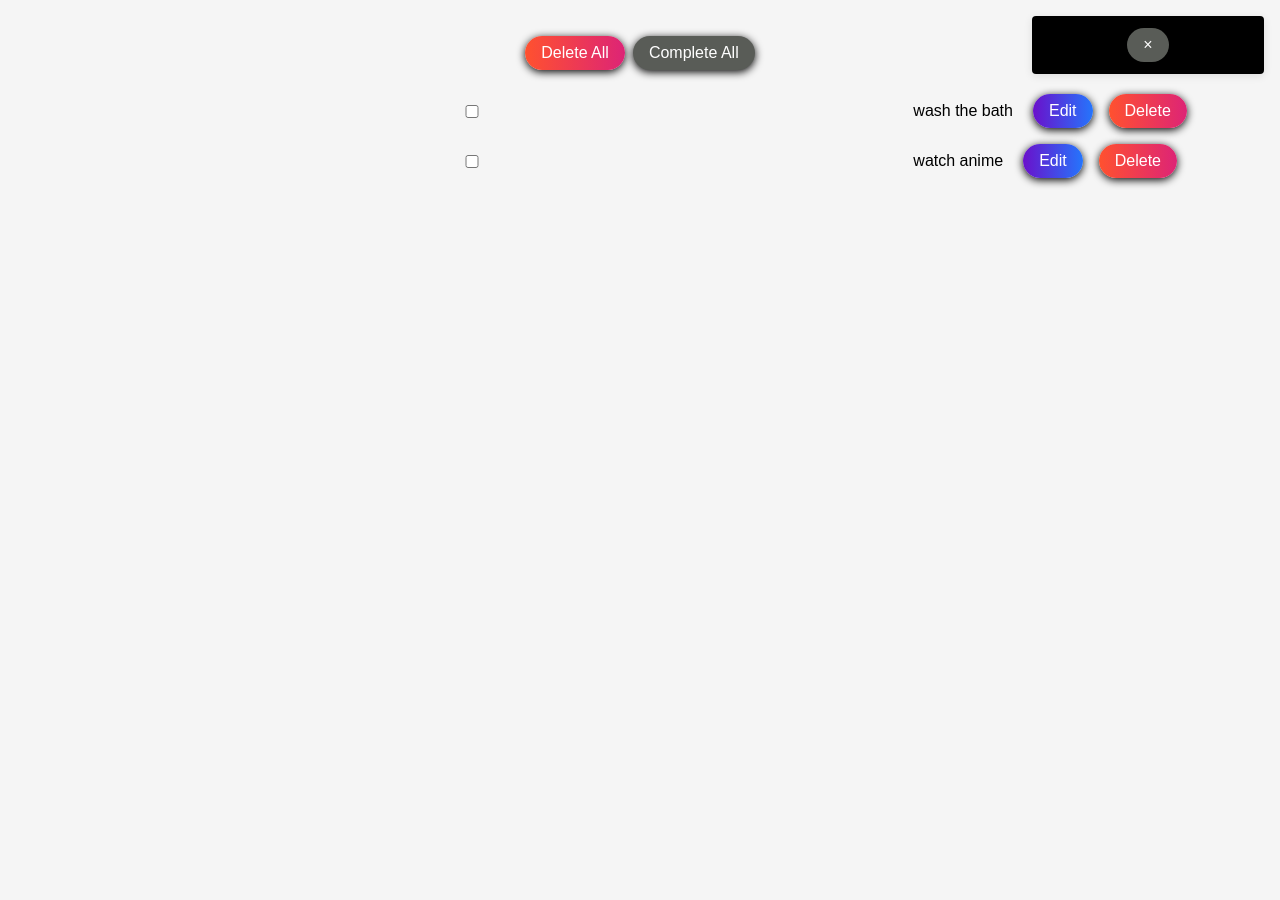
Scenario: Editing a todo- client side validation › user edits and updates a todo item in list
Click the button "Edit" next to "wash the bath".
click(1063, 111)  # box [1033, 94, 1093, 128]
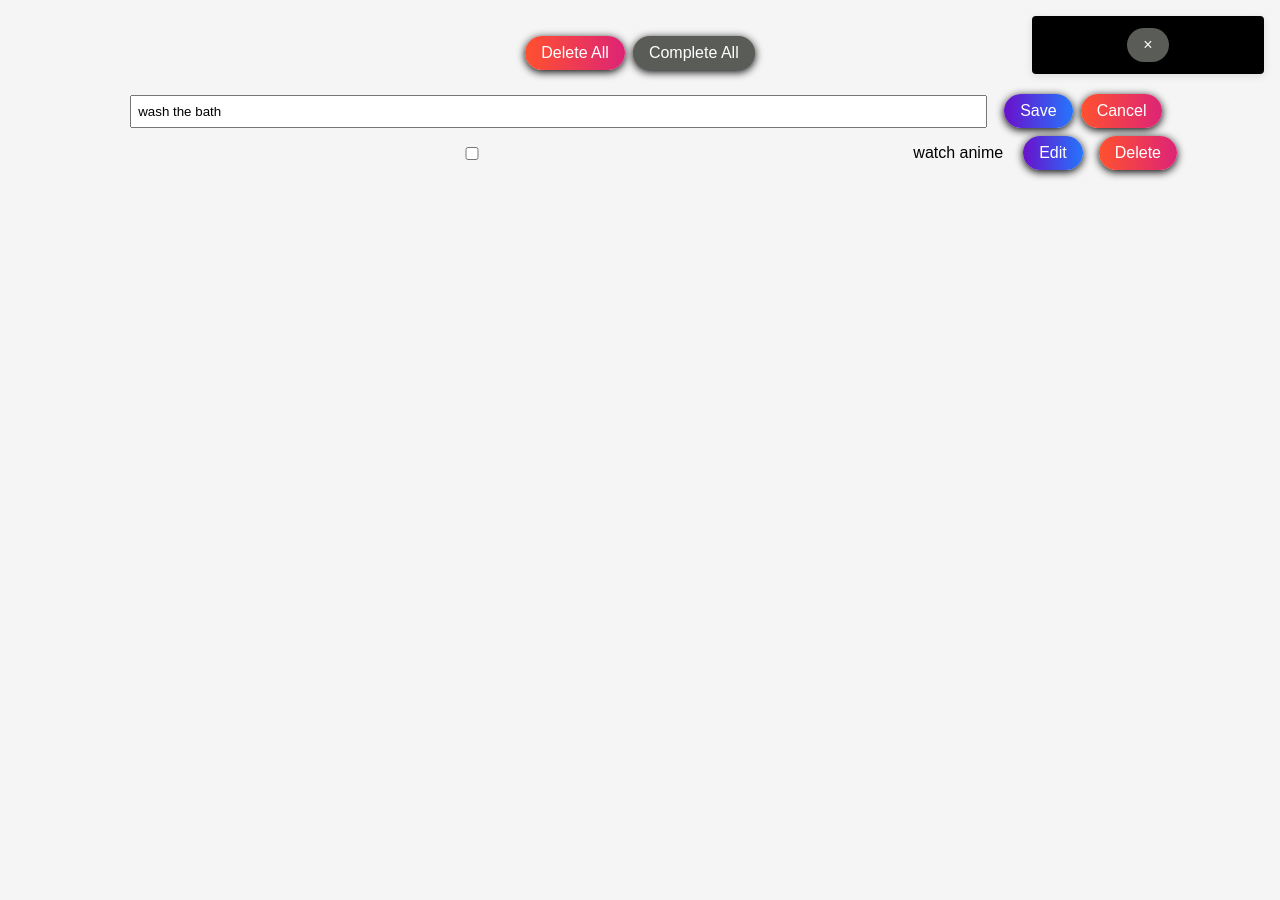
Expected: the field showing "wash the bath" is shown
Type "go to sleep" into the field showing "wash the bath".
click(558, 111); type("go to sleep")  # box [130, 95, 987, 128]
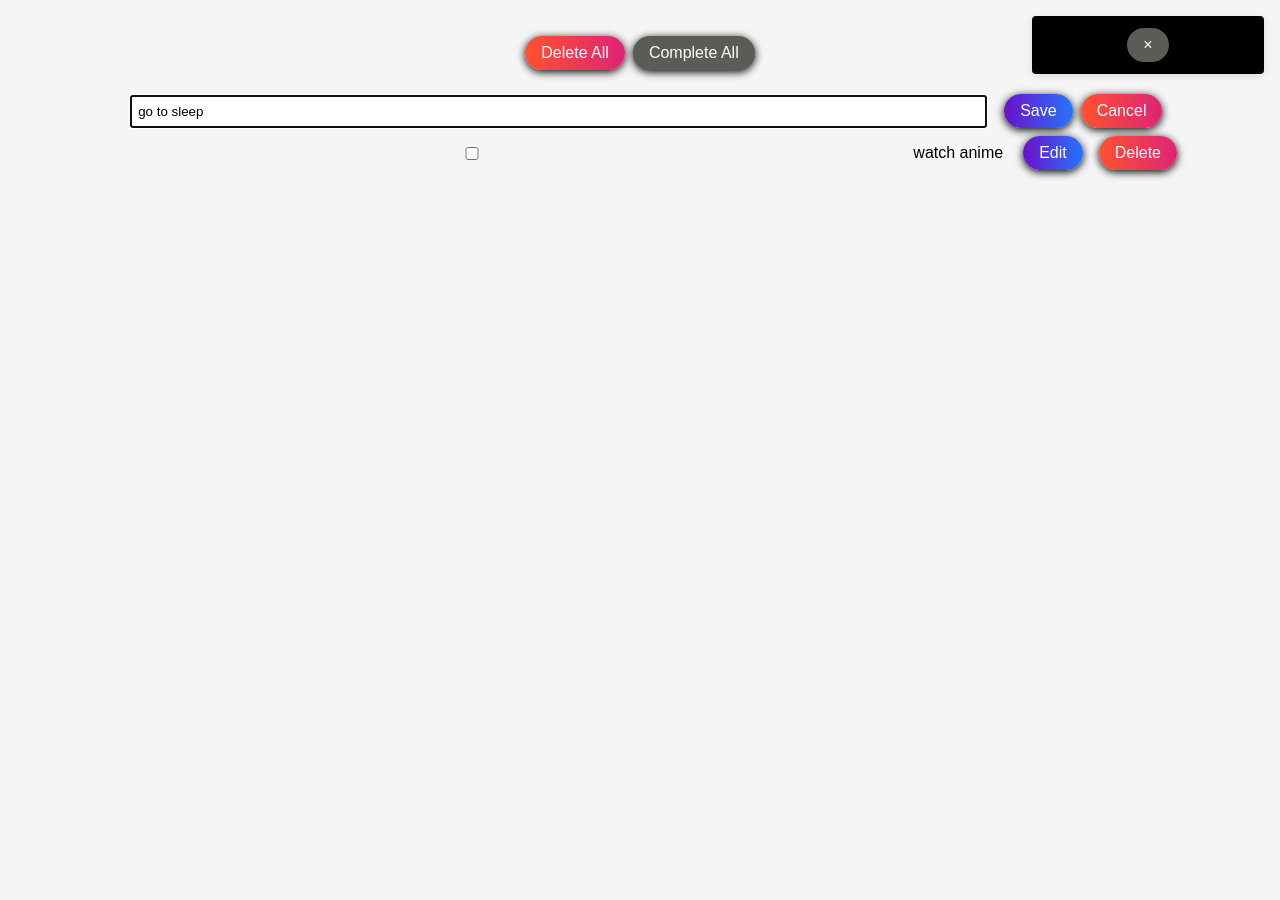
Click the button "Save".
click(1038, 111)  # box [1004, 94, 1073, 128]
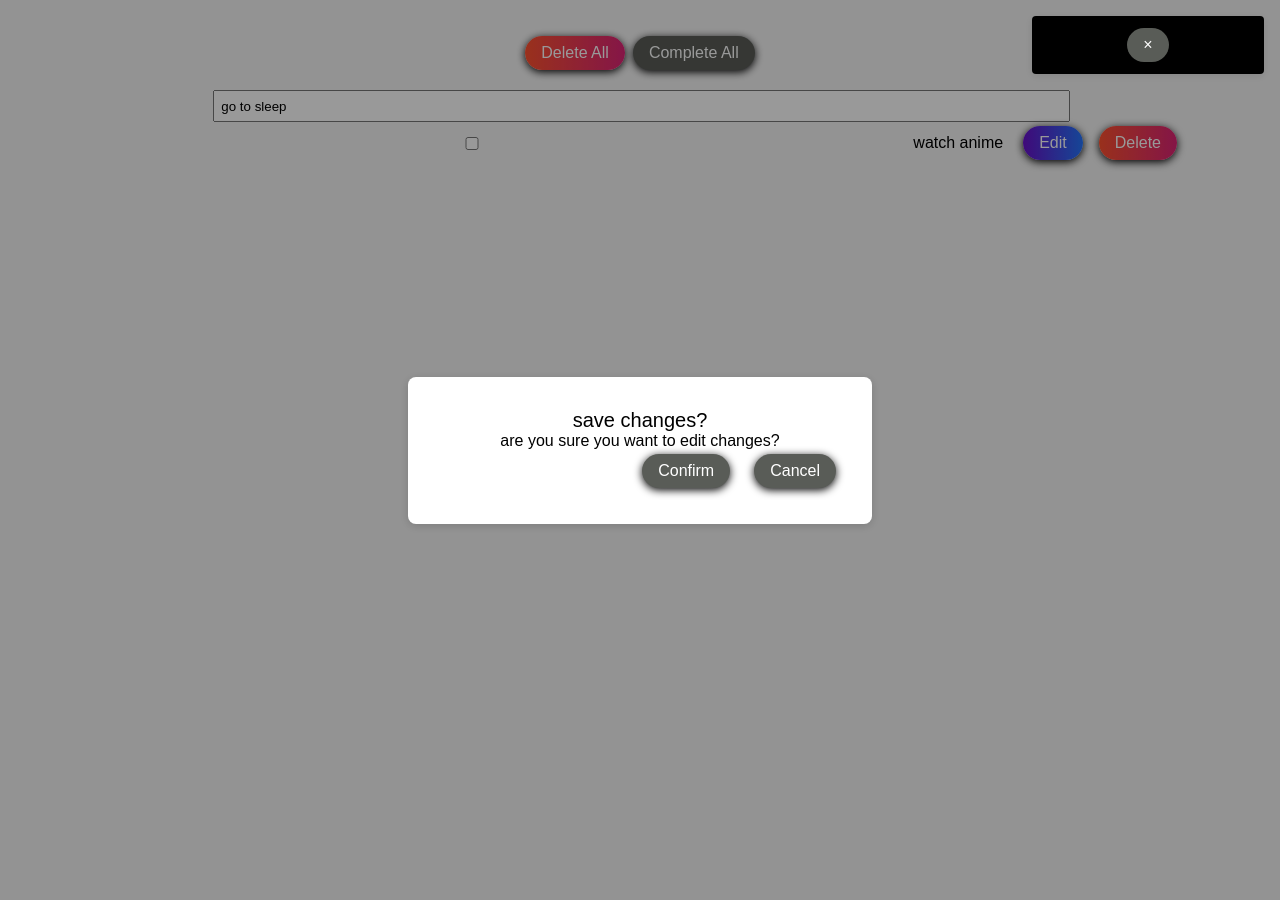
Expected: the element with class "modal-overlay" is shown
Expected: the button "Confirm" is shown
Click the button "Confirm".
click(686, 470)  # box [642, 454, 730, 488]
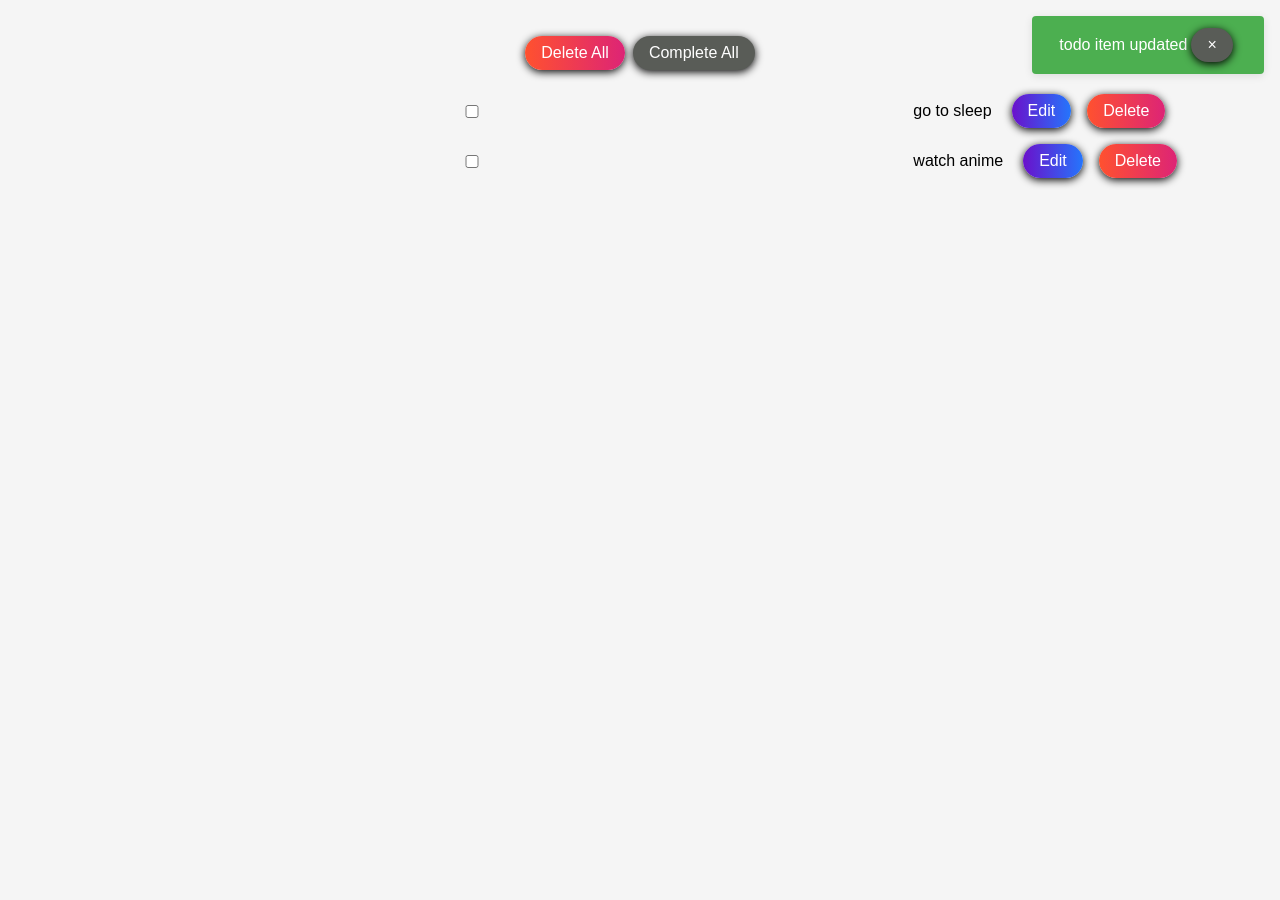
Expected: the text "go to sleep" is shown, [913, 102, 992, 120]
Expected: the element with class "modal-overlay" is gone
Expected: the element with class "success" is shown, [1032, 16, 1264, 74]
Click the button "×".
click(1212, 45)  # box [1191, 28, 1233, 62]
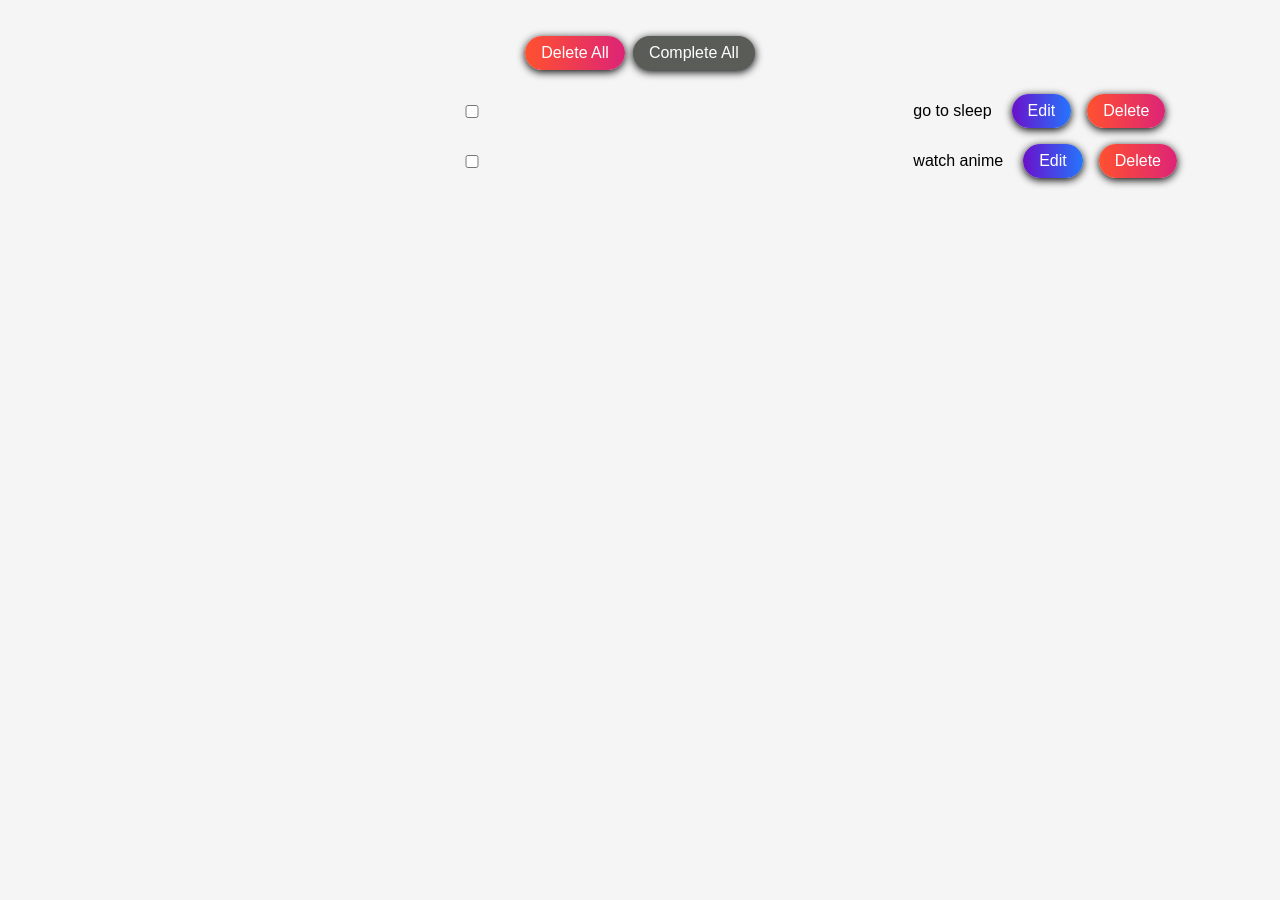
Expected: the element with class "success" is gone
